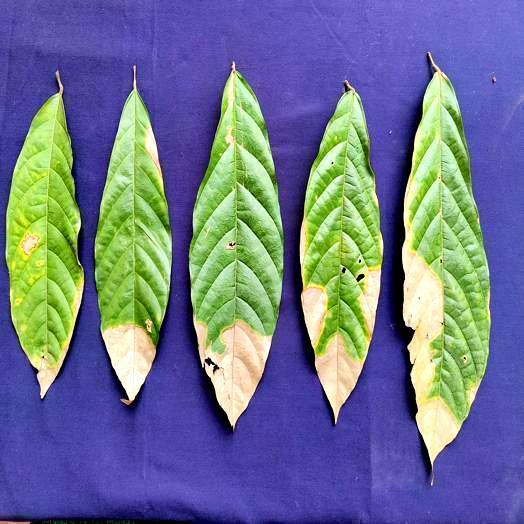Potassium: (403, 53, 490, 467), (189, 63, 283, 428), (301, 81, 382, 422), (95, 66, 171, 404), (6, 72, 83, 397)
